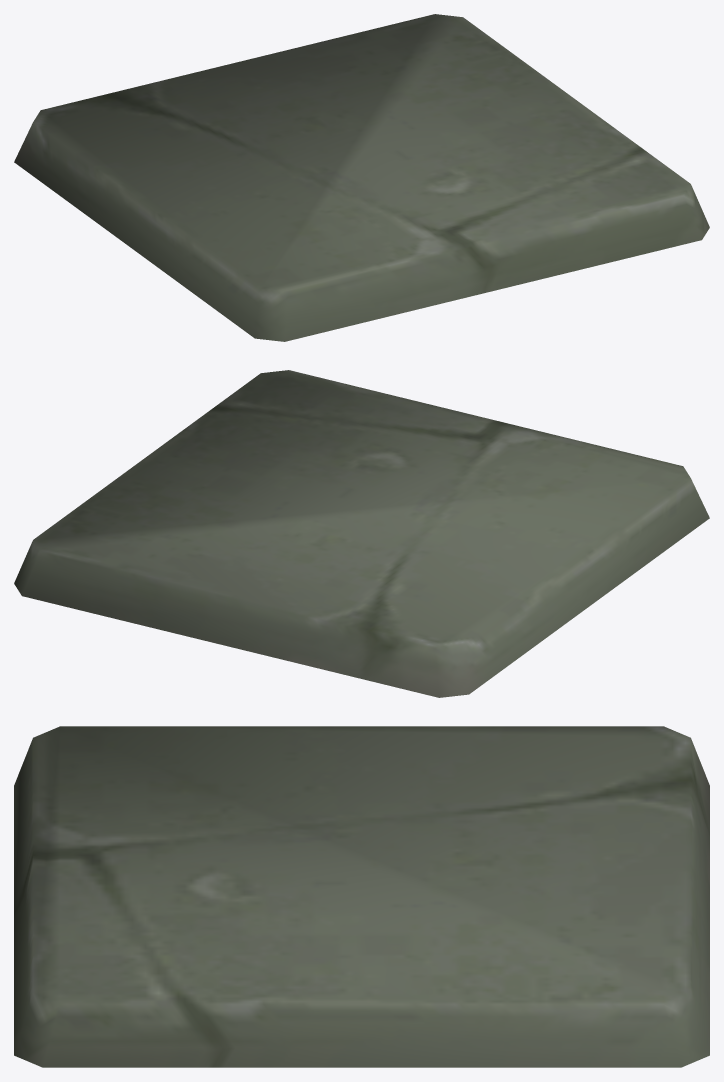
File: yw_shanlin_bigtile_001.FBX
3 views of the same model, one above another, from view 1: azimuth 30°, elevation 25°; view 2: azimuth 150°, elevation 25°; view 3: azimuth 270°, elevation 25° (orthographic). The views are drawn at different scales.
Parts seen in each view (by area): view 1: yw_shanlin_bigtile_001; view 2: yw_shanlin_bigtile_001; view 3: yw_shanlin_bigtile_001.
Part boxes in pixels (x1,y1,x2,y2): yw_shanlin_bigtile_001: [14, 14, 709, 341]; yw_shanlin_bigtile_001: [14, 370, 709, 697]; yw_shanlin_bigtile_001: [14, 726, 709, 1067].
Size of the model in its own units: 59.45 by 59.45 by 5.22.
